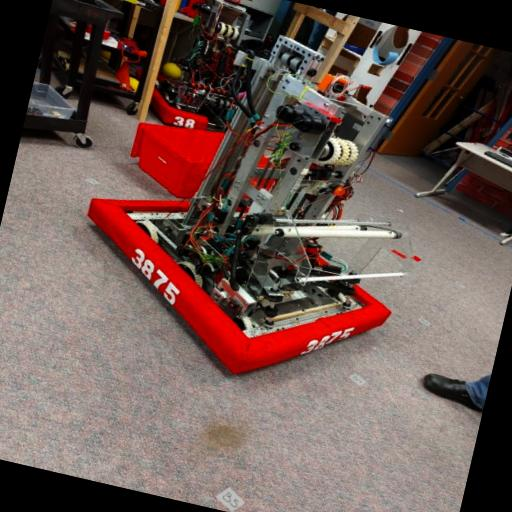robot: (51, 0, 447, 407), (137, 0, 296, 146)
